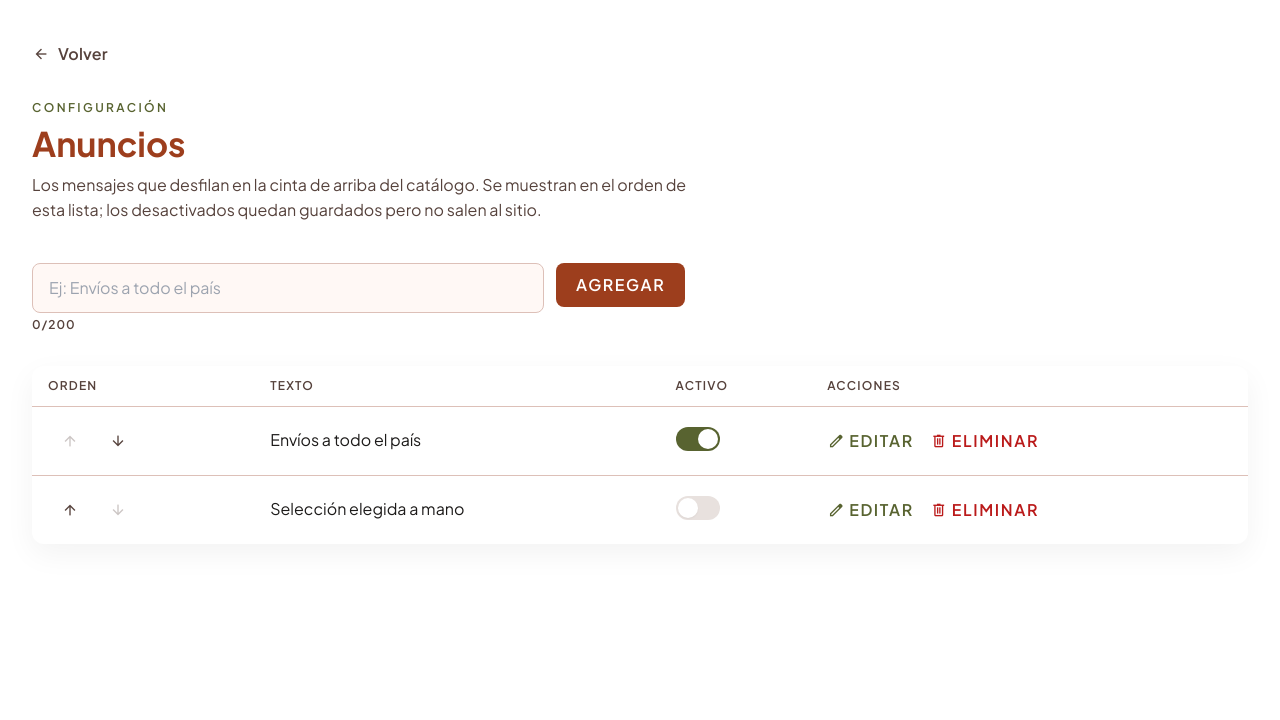
it: AdminAnuncios › si falla la recarga posterior, el mensaje no dice que la operación falló
Check: the text "Envíos a todo el país" is shown, box [254, 406, 660, 475]
Type "Nuevo" into the field named "Texto del nuevo anuncio" at (288, 288), box [32, 263, 544, 313]
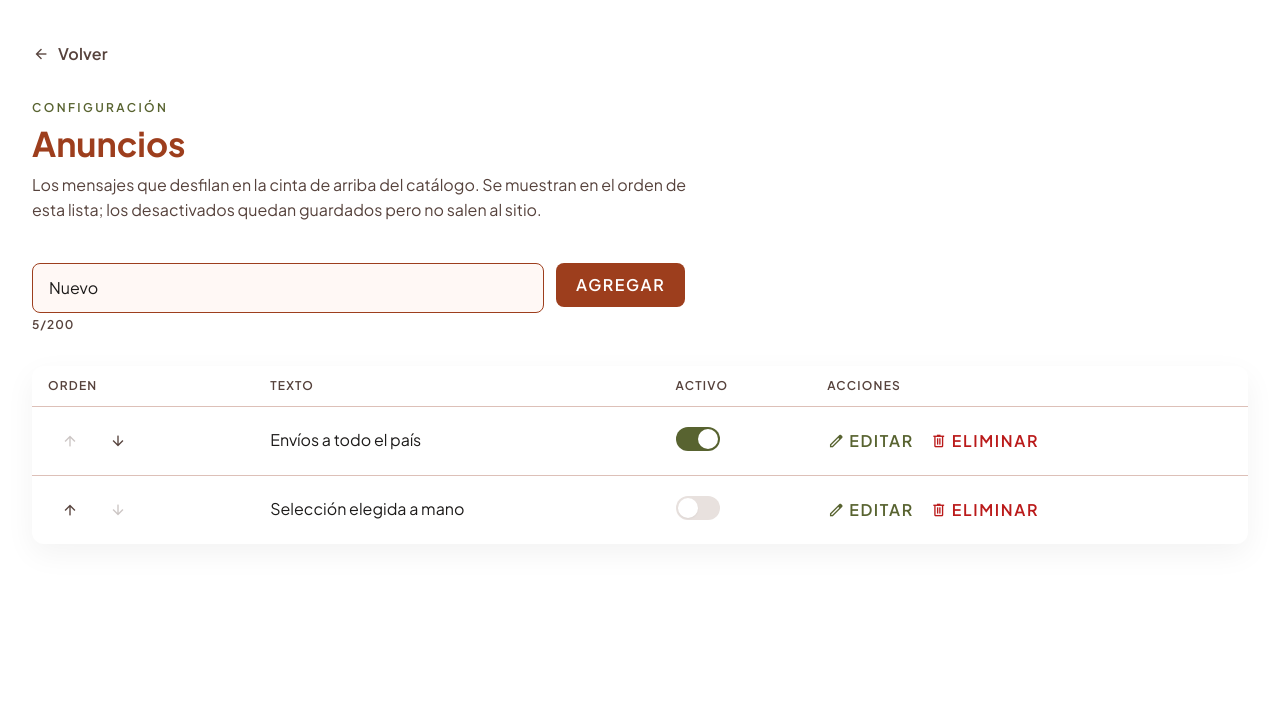
Click the button "Agregar" at (621, 285), box [556, 263, 685, 307]
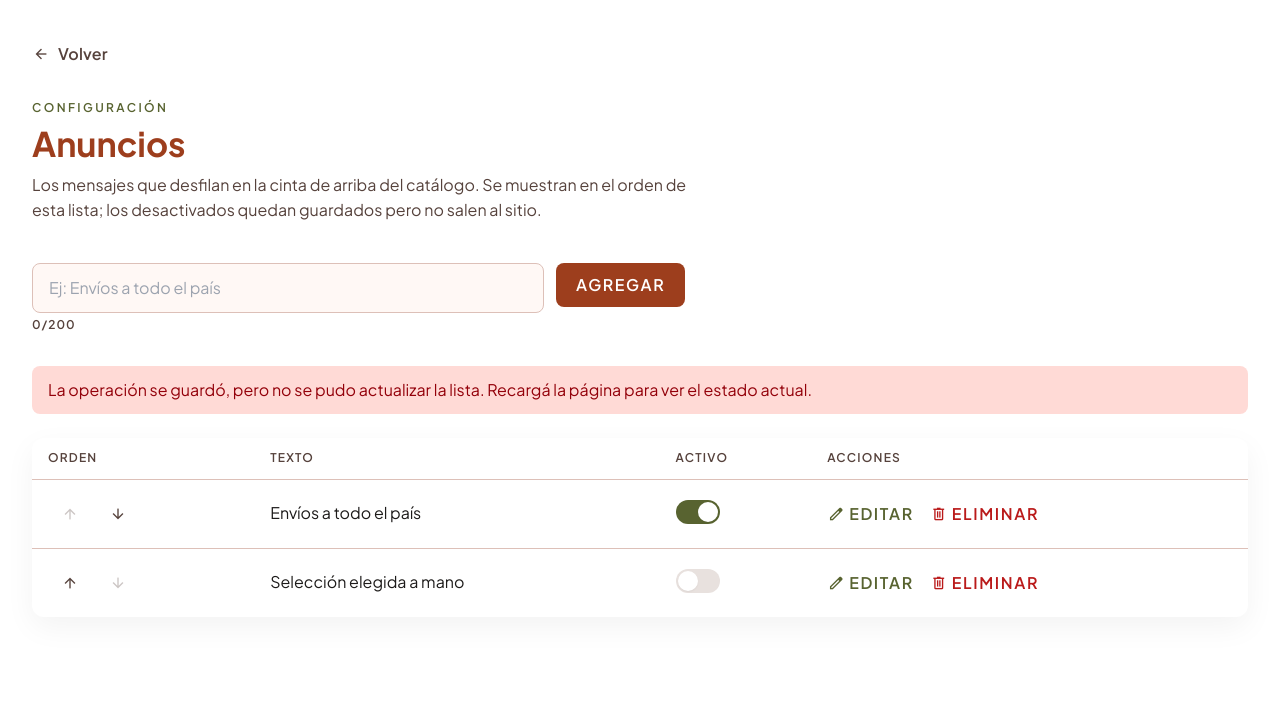
Check: the text "La operación se guardó" is shown, box [48, 379, 812, 400]
